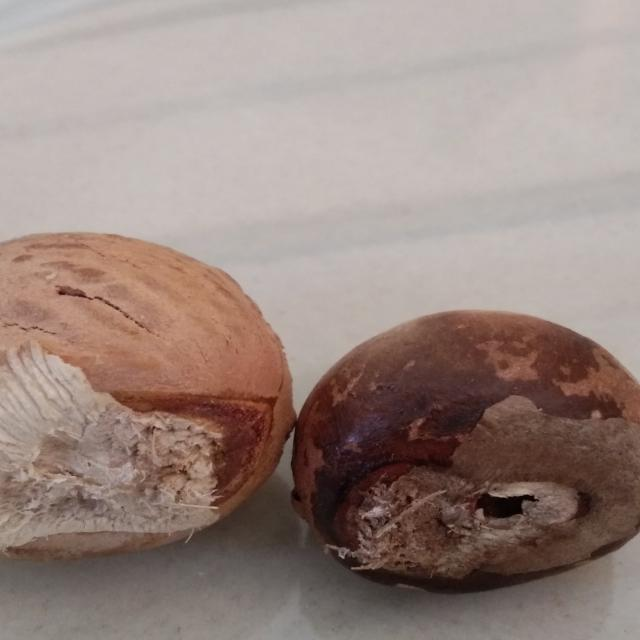karigot: (292, 237, 640, 589)
phatora: (0, 235, 288, 583)
